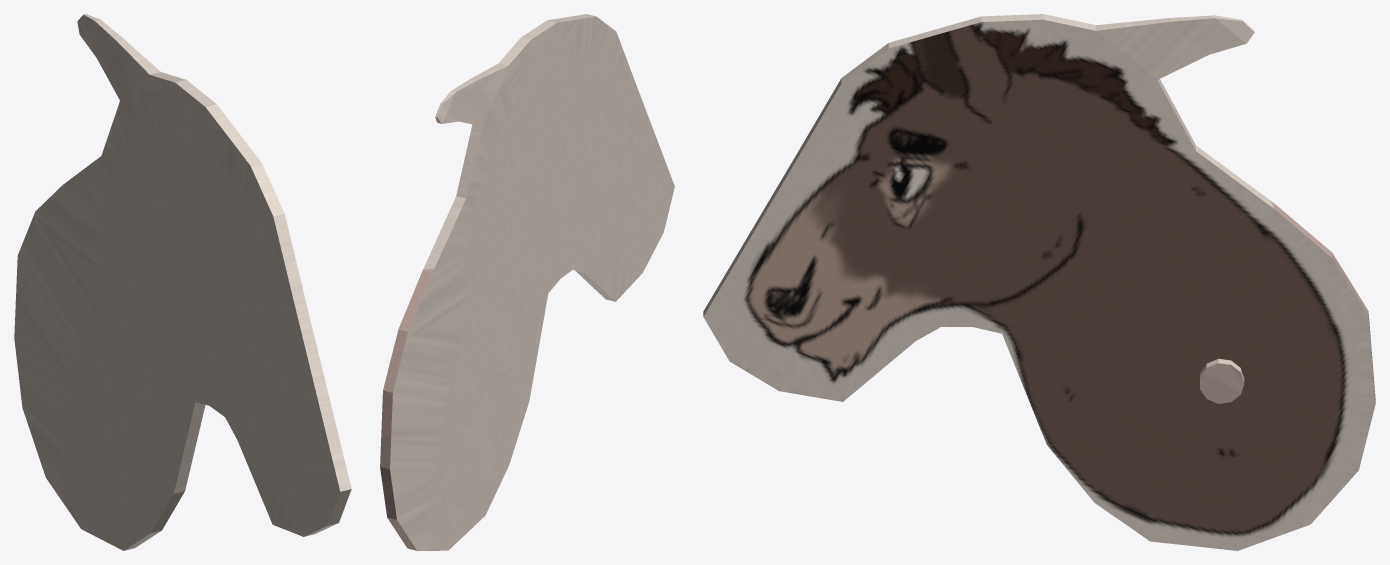
File: Donke sad head.fbx
3 views of the same model, side by side, from view 1: azimuth 30°, elevation 25°; view 2: azimuth 150°, elevation 25°; view 3: azimuth 270°, elevation 25° (orthographic). The views are drawn at different scales.
Visible parts, largest first — view 1: Donke head.001; view 2: Donke head.001; view 3: Donke head.001.
Part boxes in pixels (<box>): Donke head.001: <box>14,14,351,550</box>; Donke head.001: <box>380,14,674,550</box>; Donke head.001: <box>703,14,1375,550</box>.
Size of the model in its own units: 2.87 by 70.05 by 80.32.
